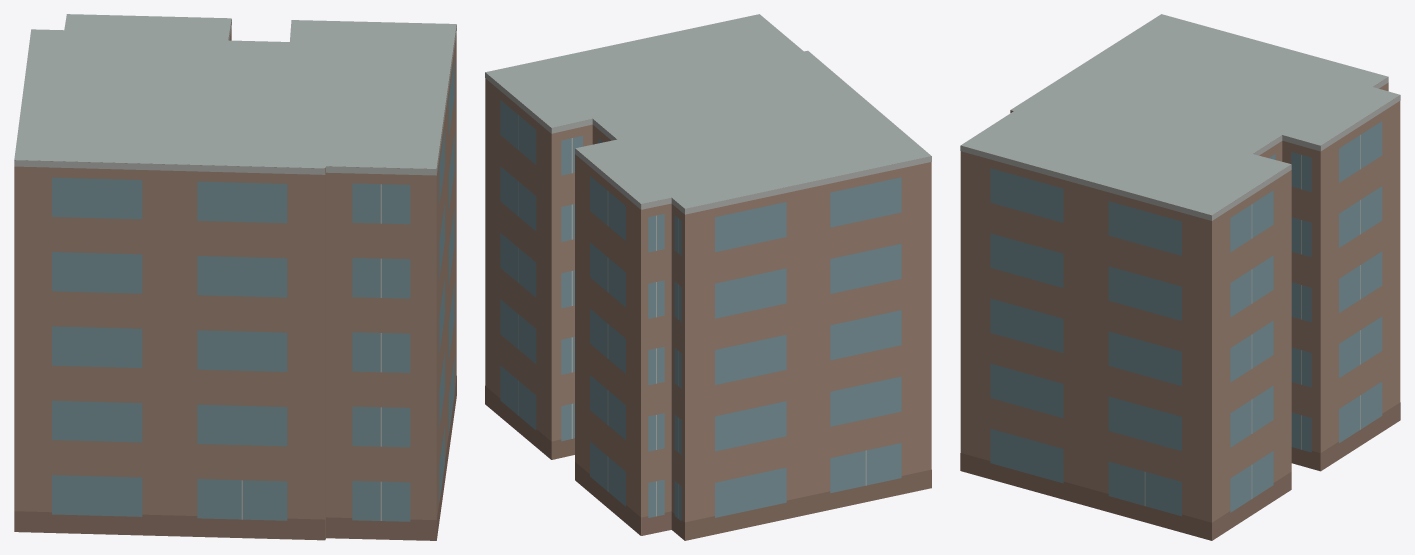
File: survey-upis-32725060.glb
The picture shows the model from 3 angles, left to right: view 1: azimuth 30°, elevation 25°; view 2: azimuth 150°, elevation 25°; view 3: azimuth 270°, elevation 25°; orthographic projection. The views are drawn at different scales.
Parts seen in each view (by area): view 1: survey-upis-32725060.tmp; view 2: survey-upis-32725060.tmp; view 3: survey-upis-32725060.tmp.
Part boxes in pixels (x1,y1,x2,y2): survey-upis-32725060.tmp: (14,14,456,540); survey-upis-32725060.tmp: (485,14,931,540); survey-upis-32725060.tmp: (960,14,1400,540).
Bounding box in the file's own units: 18.58 × 14 × 17.16.
